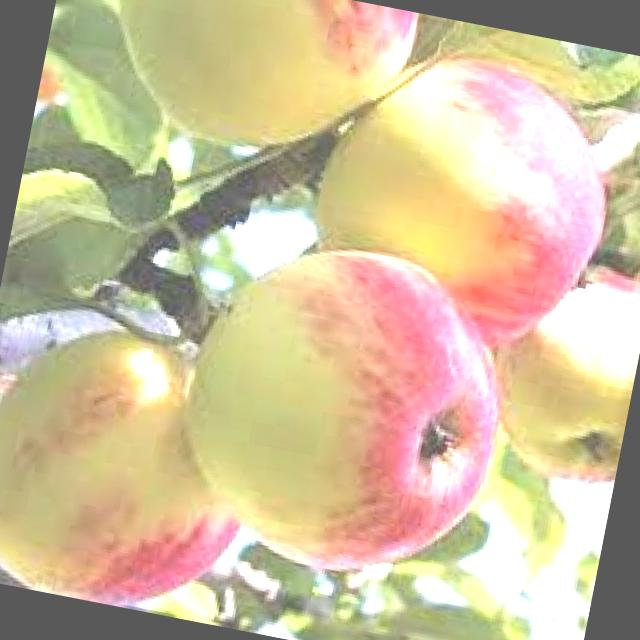Apple: (158, 218, 527, 596), (294, 31, 631, 363), (0, 306, 273, 624), (88, 0, 419, 175), (475, 246, 640, 491)
